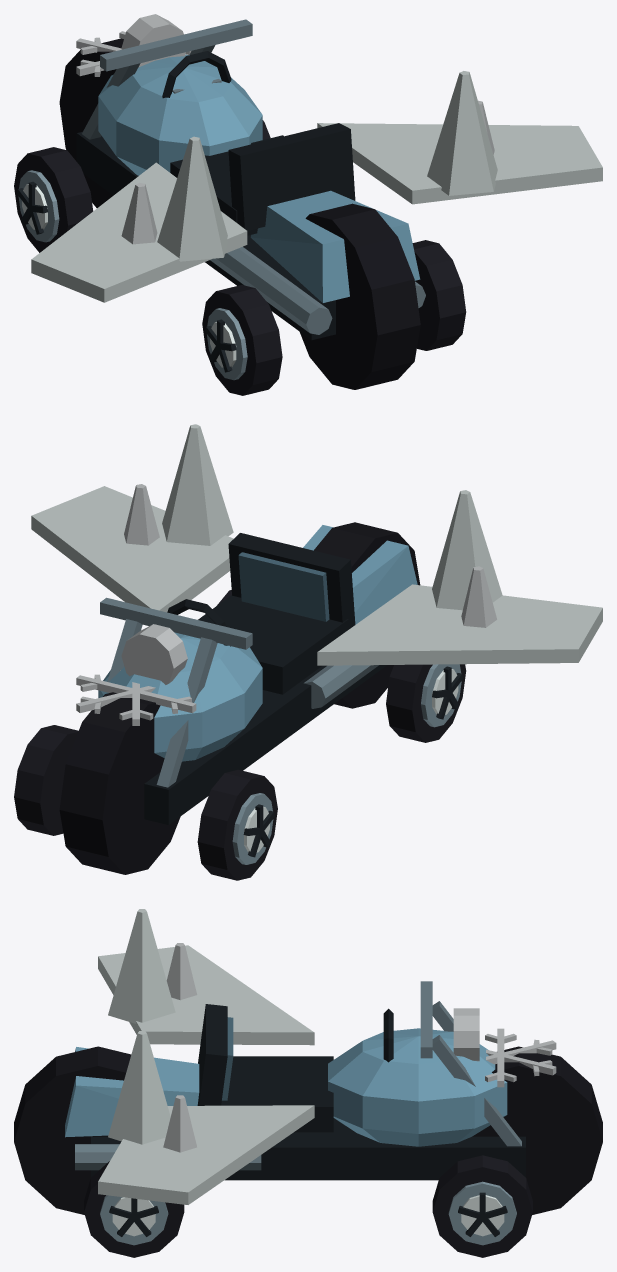
File: kart.glb
3 renders of one model, top to bottom at view 1: azimuth 30°, elevation 25°; view 2: azimuth 150°, elevation 25°; view 3: azimuth 270°, elevation 25°, orthographic. The views are drawn at different scales.
Visible parts, largest first — view 1: identity-motorbike-motorbike-tank-and-fork, identity-motorbike-motif-wings, identity-motorbike-motif-crystals, identity-motorbike-driver-cockpit, wheel-rear-left, wheel-front-left, wheel-rear-right, identity-motorbike-motif-snow; view 2: identity-motorbike-motorbike-tank-and-fork, identity-motorbike-motif-wings, identity-motorbike-driver-cockpit, identity-motorbike-motif-crystals, wheel-front-left, wheel-rear-left, wheel-front-right, identity-motorbike-motif-snow; view 3: identity-motorbike-motorbike-tank-and-fork, identity-motorbike-motif-wings, identity-motorbike-motif-crystals, identity-motorbike-driver-cockpit, wheel-front-right, wheel-rear-right, identity-motorbike-motif-snow.
Boxes of the visible parts, box(x1,y1,x2,y2) form: identity-motorbike-motorbike-tank-and-fork: box(59, 14, 425, 389); identity-motorbike-motif-wings: box(31, 123, 602, 302); identity-motorbike-motif-crystals: box(121, 71, 497, 261); identity-motorbike-driver-cockpit: box(162, 51, 355, 235); wheel-rear-left: box(202, 285, 282, 395); wheel-front-left: box(14, 147, 93, 252); wheel-rear-right: box(412, 240, 466, 350); identity-motorbike-motif-snow: box(76, 31, 191, 76); identity-motorbike-motorbike-tank-and-fork: box(59, 522, 420, 874); identity-motorbike-motif-wings: box(31, 486, 602, 665); identity-motorbike-driver-cockpit: box(167, 533, 355, 694); identity-motorbike-motif-crystals: box(124, 424, 502, 627); wheel-front-left: box(197, 769, 277, 880); wheel-rear-left: box(386, 664, 466, 742); wheel-front-right: box(14, 725, 78, 835); identity-motorbike-motif-snow: box(76, 670, 196, 725); identity-motorbike-motorbike-tank-and-fork: box(14, 981, 602, 1214); identity-motorbike-motif-wings: box(98, 945, 314, 1204); identity-motorbike-motif-crystals: box(108, 909, 197, 1152); identity-motorbike-driver-cockpit: box(197, 1004, 393, 1132); wheel-front-right: box(432, 1155, 532, 1257); wheel-rear-right: box(84, 1161, 184, 1257); identity-motorbike-motif-snow: box(467, 1028, 556, 1087).
Size of the model in its own units: 2.92 by 1.32 by 2.94.
